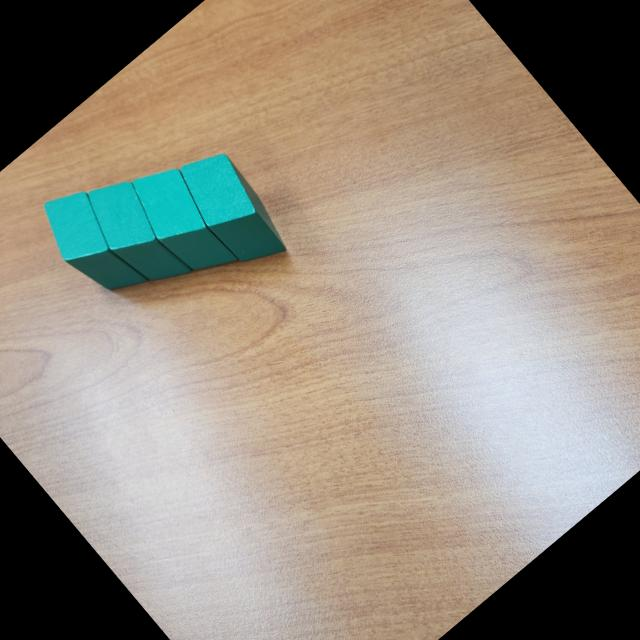green: (117, 152, 250, 292), (166, 138, 298, 278), (72, 165, 201, 302), (28, 178, 157, 314)
